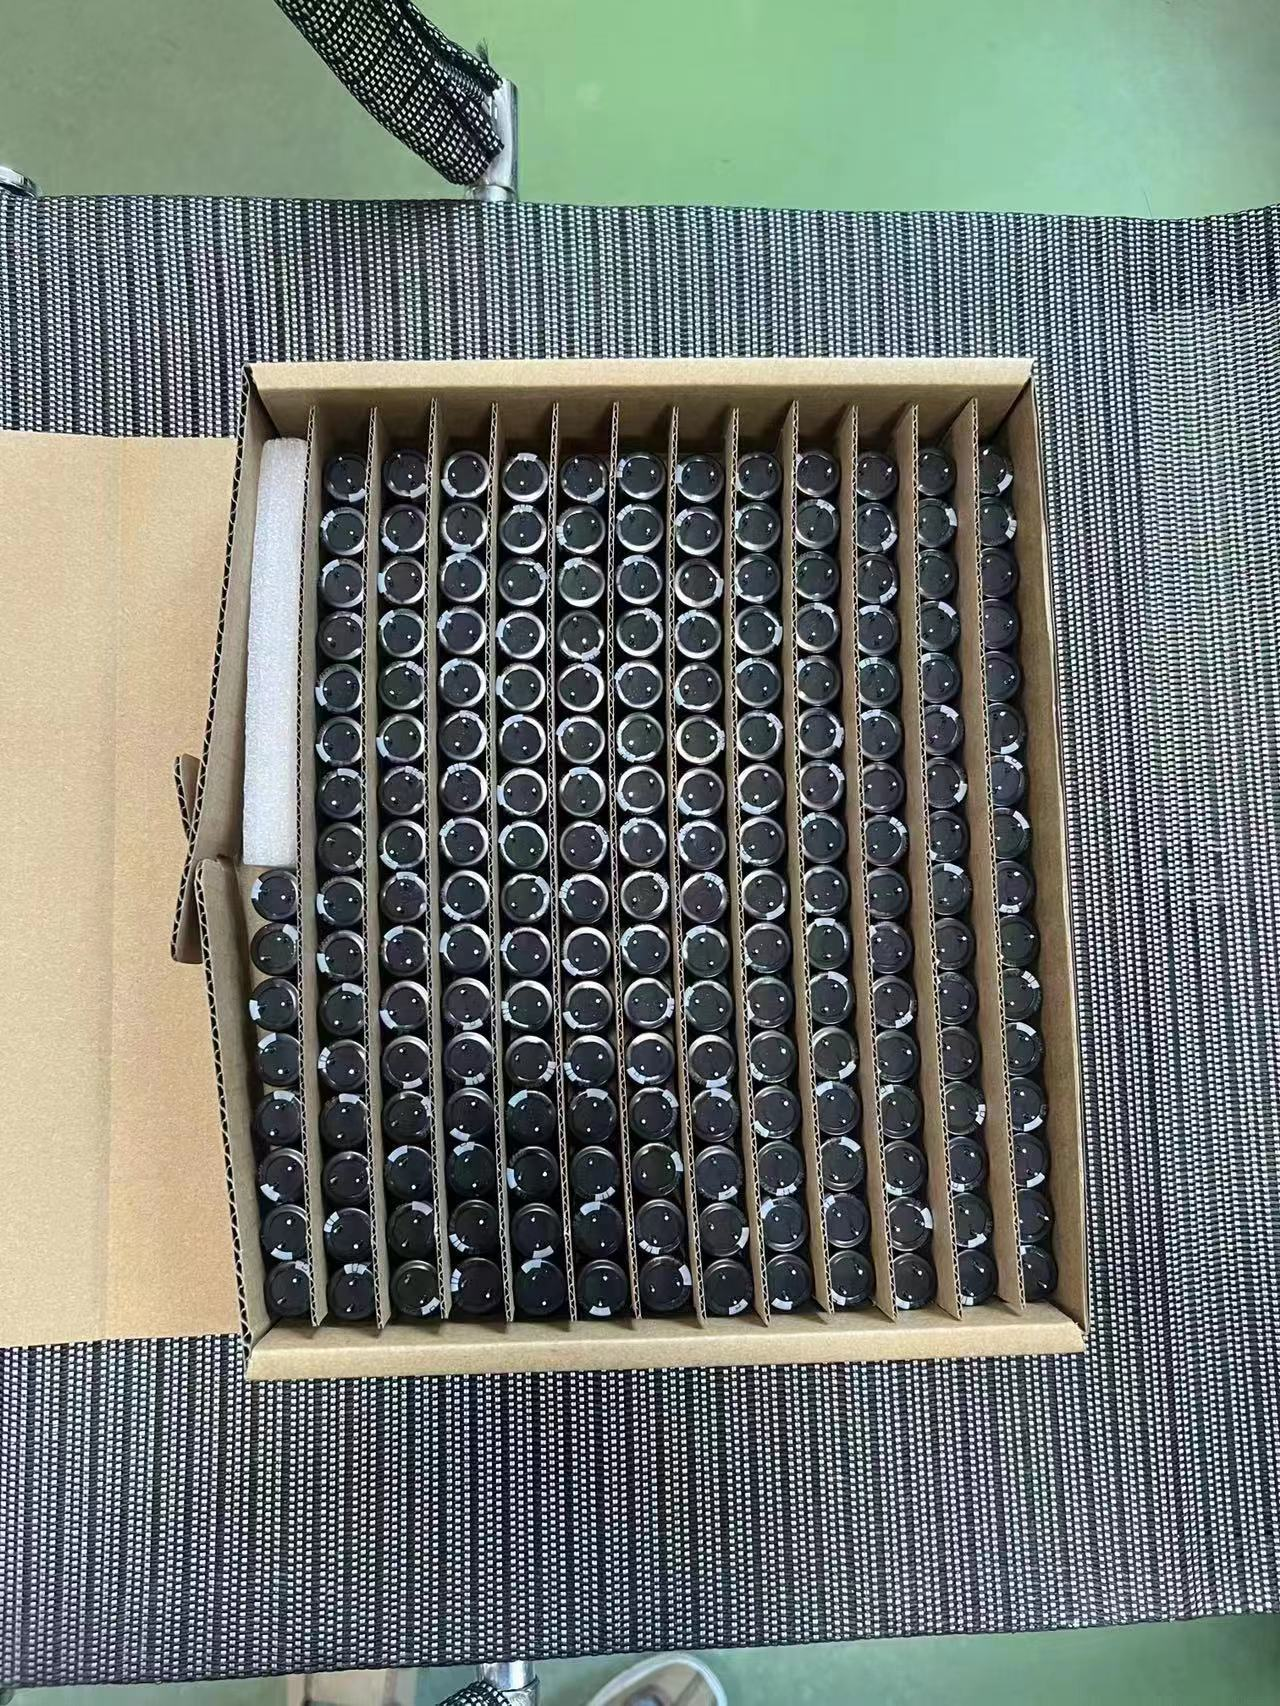battery: (663, 1326, 733, 1391), (526, 1326, 588, 1393), (235, 1132, 296, 1199), (383, 1326, 442, 1390), (805, 1253, 861, 1322), (709, 430, 770, 491), (598, 1326, 656, 1390), (850, 889, 916, 945), (176, 1326, 226, 1399), (241, 1332, 298, 1395), (445, 1135, 508, 1192), (593, 1258, 653, 1317), (883, 1326, 941, 1387), (309, 1192, 368, 1252), (524, 1258, 584, 1317), (746, 1327, 804, 1387), (456, 1327, 510, 1391), (811, 1315, 859, 1386), (239, 1196, 290, 1264), (313, 1326, 372, 1383), (780, 764, 838, 823), (877, 1192, 932, 1254), (456, 1253, 508, 1317), (171, 1059, 221, 1127), (649, 434, 709, 491), (727, 1125, 787, 1182), (382, 1190, 436, 1252), (731, 1266, 795, 1319), (519, 1196, 584, 1248), (383, 1131, 440, 1188), (176, 878, 225, 945), (588, 428, 641, 488), (246, 1008, 296, 1073), (381, 1256, 436, 1313), (799, 1127, 856, 1182), (865, 1010, 920, 1067), (657, 1131, 717, 1184), (879, 1264, 938, 1317), (169, 1258, 222, 1319), (169, 1131, 221, 1192), (520, 1131, 584, 1180), (648, 713, 705, 768), (869, 1069, 924, 1125), (717, 828, 774, 882), (733, 1195, 787, 1253), (452, 893, 511, 945), (458, 1063, 511, 1123), (648, 946, 709, 998), (243, 1265, 293, 1327), (313, 1065, 363, 1127), (667, 1190, 717, 1252), (972, 425, 1022, 487), (514, 829, 569, 885), (520, 1067, 575, 1123), (645, 489, 701, 544), (645, 540, 701, 596), (799, 1059, 854, 1114), (598, 1192, 652, 1249), (722, 1010, 780, 1062), (381, 1062, 432, 1121), (653, 1008, 713, 1059), (780, 827, 839, 878), (717, 483, 762, 549), (645, 891, 706, 941), (448, 1006, 510, 1054), (991, 760, 1035, 827), (173, 1195, 221, 1258), (317, 1254, 364, 1317), (171, 1003, 226, 1057), (719, 950, 774, 1004), (926, 949, 980, 1004), (456, 597, 508, 653), (247, 950, 298, 1008), (317, 885, 368, 942), (520, 1008, 578, 1059), (250, 825, 296, 890), (250, 890, 300, 949), (530, 432, 579, 491), (584, 773, 643, 823), (871, 1131, 921, 1190), (959, 1322, 1006, 1383), (382, 1006, 436, 1059), (850, 832, 904, 886), (667, 1264, 719, 1319), (719, 772, 772, 827), (776, 540, 828, 596), (785, 653, 838, 708), (645, 610, 709, 656), (255, 656, 307, 713), (589, 942, 645, 993), (1030, 1308, 1069, 1381), (452, 773, 504, 827), (520, 889, 575, 940), (584, 1006, 639, 1057), (251, 710, 296, 773), (848, 653, 895, 713), (789, 881, 840, 934), (844, 430, 895, 484), (243, 1075, 293, 1131), (522, 601, 571, 656), (172, 942, 221, 999), (329, 653, 378, 710), (463, 428, 511, 484), (943, 1132, 991, 1188), (308, 1140, 367, 1186), (579, 886, 639, 932), (723, 1073, 783, 1119), (397, 430, 448, 483), (1004, 1065, 1055, 1117), (456, 547, 510, 597), (519, 773, 569, 827), (584, 661, 639, 710), (808, 1188, 856, 1244), (1002, 1002, 1050, 1057), (1012, 1125, 1054, 1188), (932, 1014, 983, 1065), (272, 430, 321, 483), (713, 551, 765, 601), (982, 656, 1035, 704), (454, 950, 510, 998), (454, 1196, 510, 1244), (593, 1131, 648, 1178), (1002, 942, 1047, 999), (721, 893, 772, 942), (932, 885, 982, 936), (585, 714, 637, 762), (589, 829, 641, 878), (780, 436, 832, 484), (843, 547, 891, 600), (863, 950, 916, 999), (934, 1077, 987, 1125), (793, 1003, 840, 1057), (846, 717, 899, 764), (269, 493, 315, 549), (649, 667, 705, 713), (593, 491, 643, 540), (652, 836, 702, 886), (662, 1071, 711, 1121), (783, 714, 832, 764), (843, 493, 893, 543), (258, 606, 307, 657), (317, 949, 368, 998), (397, 489, 445, 540), (916, 601, 963, 653), (328, 600, 374, 653), (592, 1071, 645, 1117), (454, 840, 510, 885), (917, 544, 961, 600), (385, 769, 433, 819), (776, 600, 824, 649), (793, 941, 843, 989), (945, 1192, 995, 1241), (385, 827, 432, 878), (528, 489, 575, 540), (524, 604, 575, 651), (588, 604, 639, 651), (649, 777, 702, 823), (1022, 1249, 1068, 1301), (585, 551, 639, 596), (912, 428, 951, 488), (321, 714, 368, 764), (383, 945, 428, 998), (519, 949, 571, 993), (920, 777, 972, 821), (920, 715, 967, 764), (321, 777, 371, 823), (395, 714, 441, 764), (778, 493, 830, 538), (912, 489, 956, 540), (321, 829, 367, 878), (389, 886, 433, 936), (522, 721, 571, 765), (1019, 1191, 1058, 1248), (461, 717, 504, 768), (333, 483, 374, 536), (852, 774, 898, 821), (926, 827, 973, 872), (524, 661, 569, 710), (461, 664, 510, 708), (265, 551, 308, 601), (317, 1008, 360, 1058), (461, 497, 511, 540), (717, 719, 766, 762), (328, 544, 372, 592), (995, 825, 1035, 877), (393, 604, 437, 649), (846, 608, 893, 651), (393, 661, 441, 703), (998, 882, 1035, 934), (255, 777, 300, 821), (917, 660, 961, 704), (339, 428, 378, 477), (980, 491, 1021, 538), (717, 608, 761, 649), (983, 549, 1021, 597), (715, 667, 765, 703), (955, 1264, 998, 1305), (991, 713, 1033, 756), (395, 549, 436, 592), (982, 614, 1026, 651)
